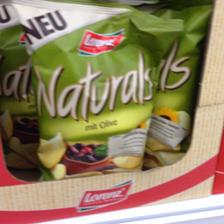Chips: (19, 0, 172, 178)
